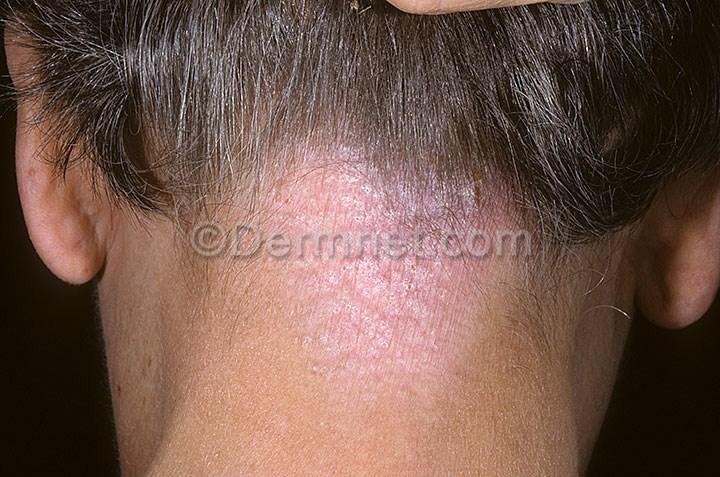Eczema: (282, 254, 472, 426), (267, 137, 493, 228)
